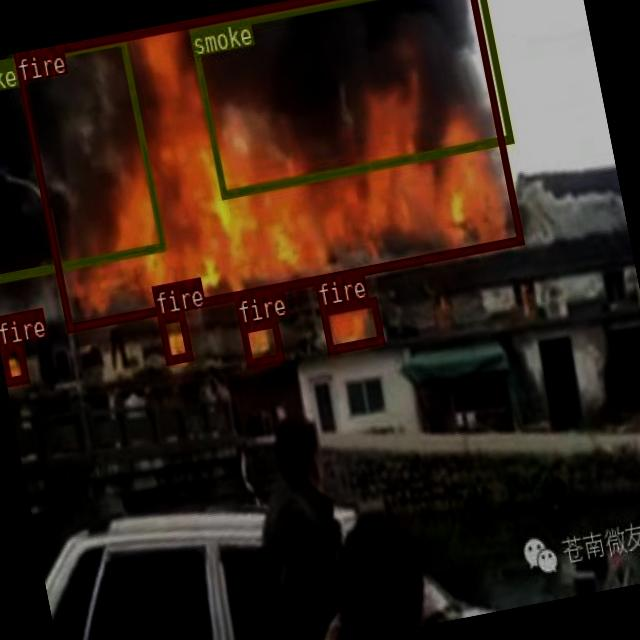fire: (13, 0, 522, 331), (318, 295, 384, 353), (238, 316, 283, 366), (156, 310, 192, 364), (0, 341, 27, 386)
smoke: (188, 0, 512, 198), (0, 34, 165, 281)
